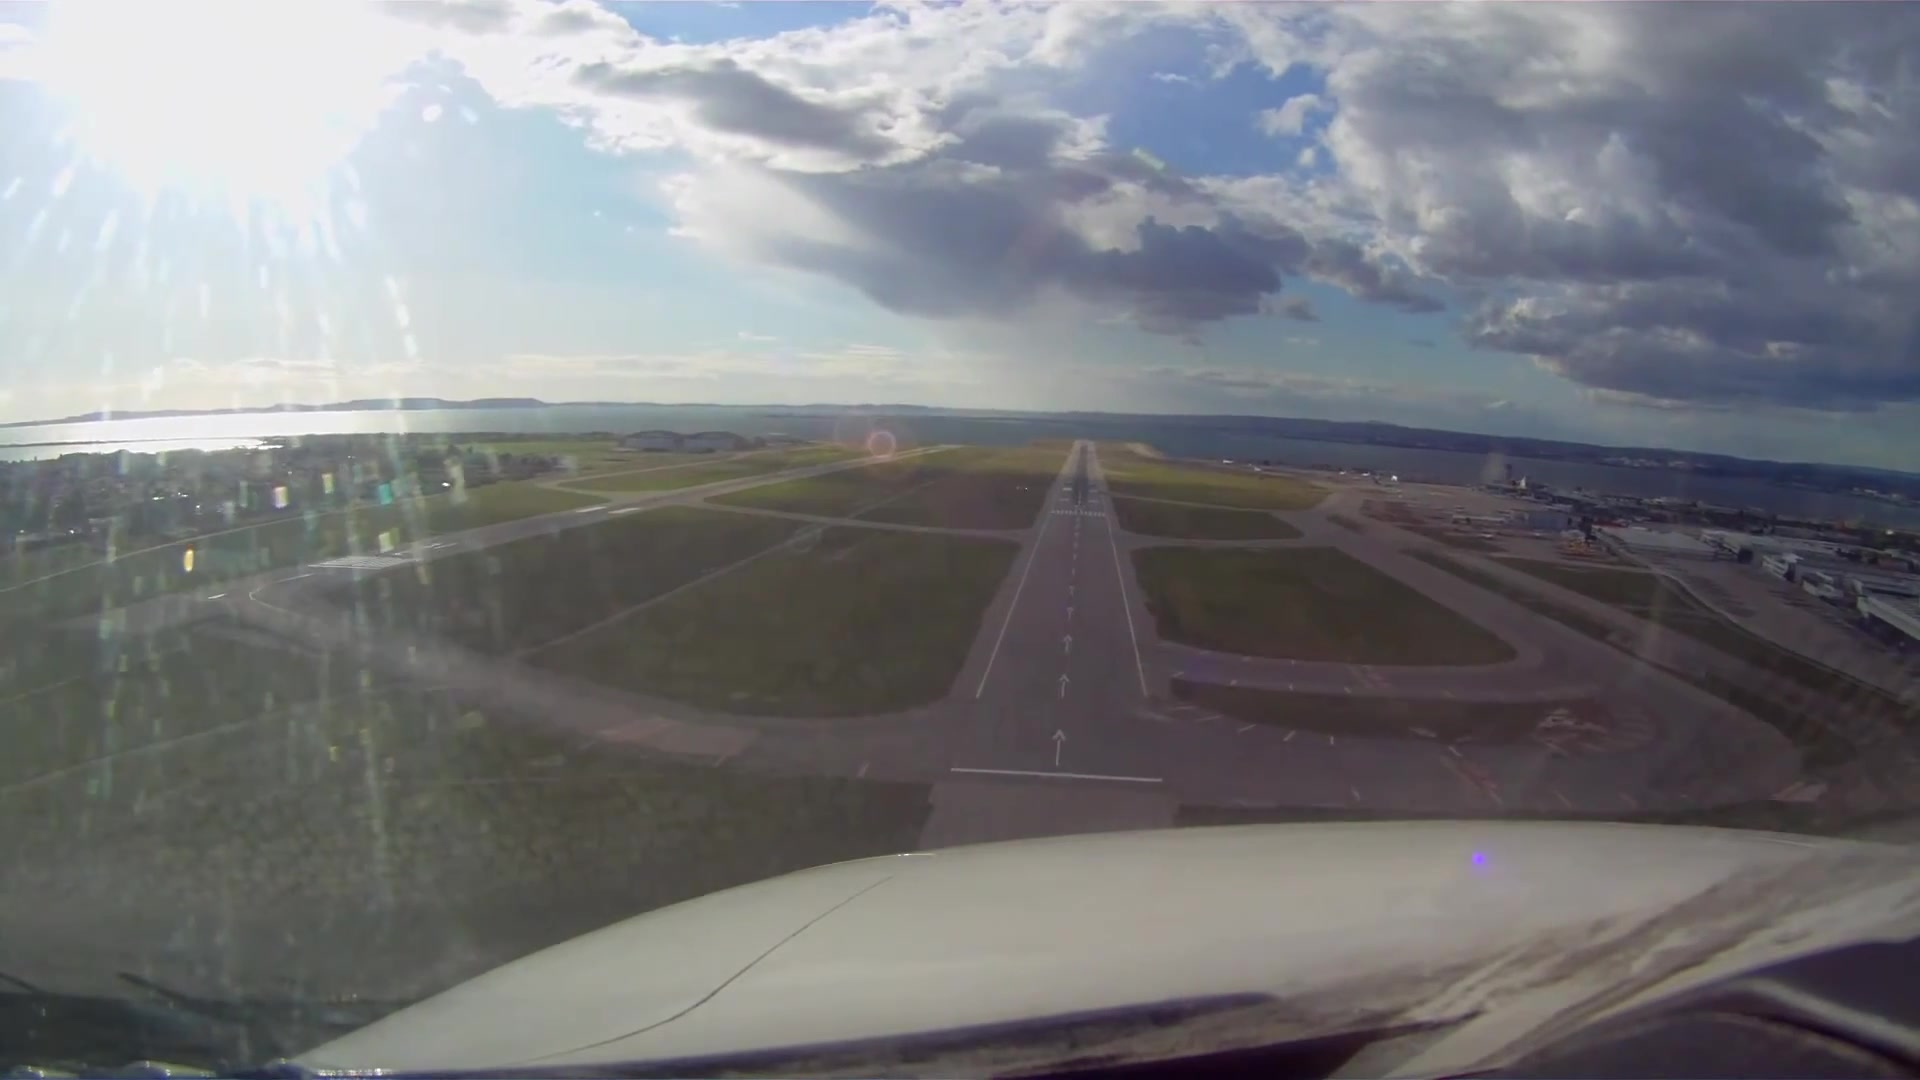entrance: (1046, 504, 1109, 520)
runway: (944, 446, 1172, 789)
